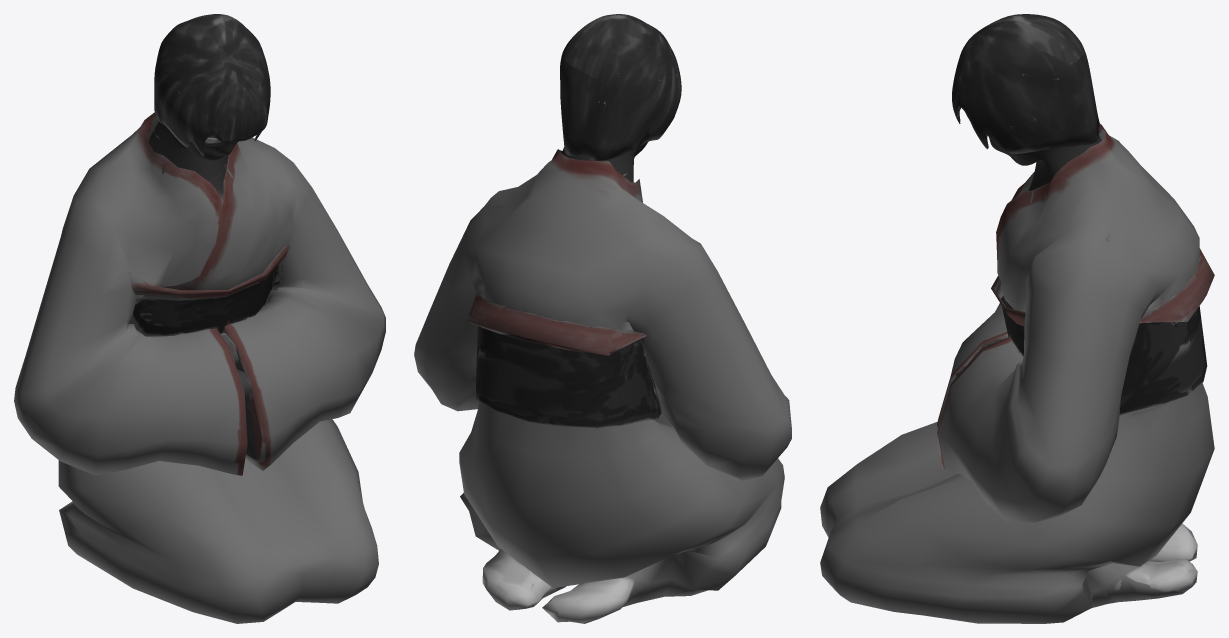
Rendered from victim.fbx.
3 views of the same model, side by side, from view 1: azimuth 30°, elevation 25°; view 2: azimuth 150°, elevation 25°; view 3: azimuth 270°, elevation 25° (orthographic). The views are drawn at different scales.
Parts seen in each view (by area): view 1: Circle.003, Cube.002, Cube; view 2: Circle.003, Cube.002, Cube; view 3: Circle.003, Cube.002, Cube.
Boxes of the visible parts, x1,y1,x2,y2 form: Circle.003: [14, 112, 385, 623]; Cube.002: [154, 14, 270, 156]; Cube: [148, 121, 238, 202]; Circle.003: [414, 149, 791, 623]; Cube.002: [560, 14, 681, 160]; Cube: [561, 142, 647, 182]; Circle.003: [820, 124, 1214, 623]; Cube.002: [952, 14, 1099, 153]; Cube: [966, 114, 1101, 190].
Size of the model in its own units: 199 by 281 by 178.
